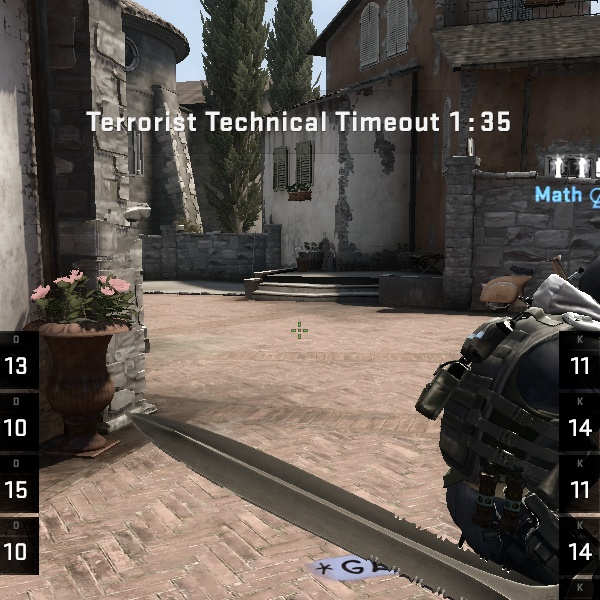ct_body: (398, 220, 589, 600)
